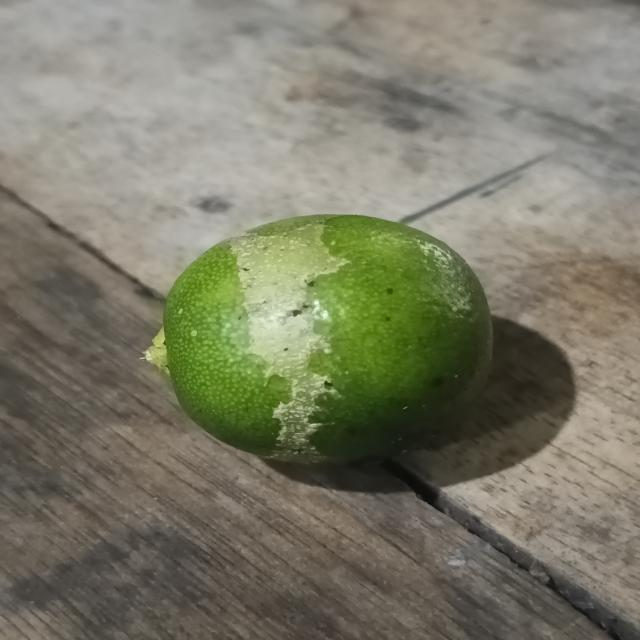thrips: (160, 211, 494, 464)
